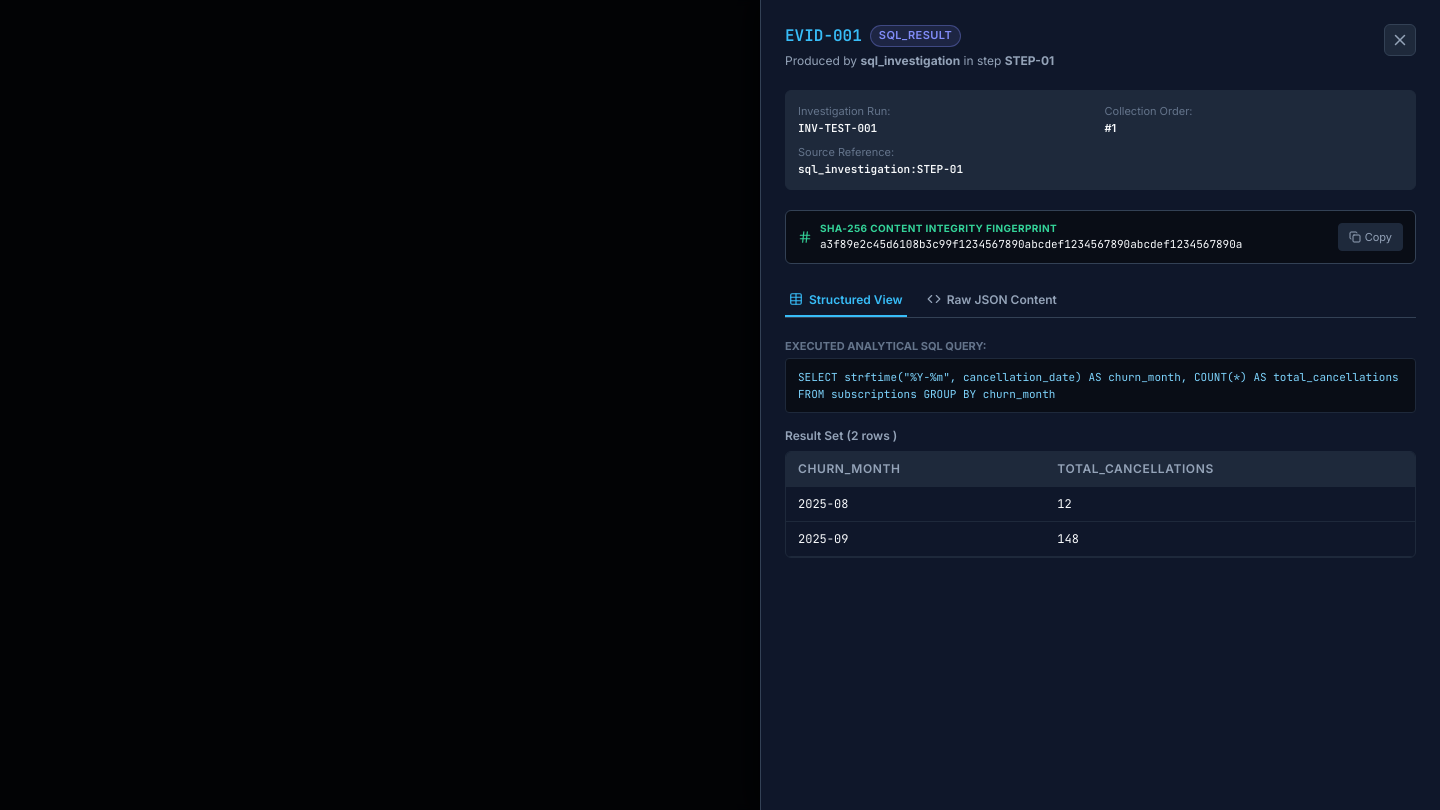
EvidenceInspector component › switches between structured view and raw JSON view
Click the button "Raw JSON Content" at (992, 300), box x1=923 y1=284 x2=1061 y2=316
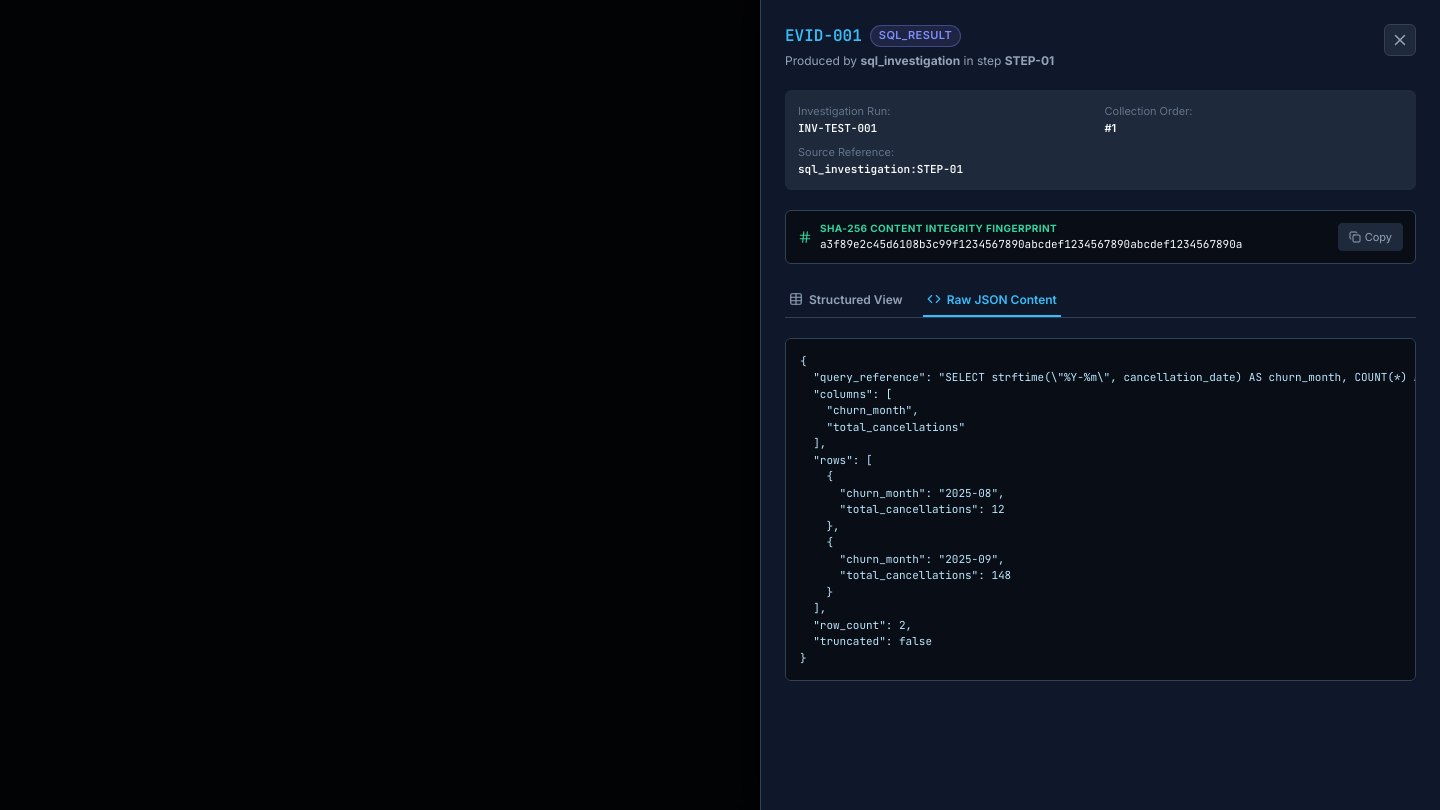
Check: the text "\"query_reference\":" is shown, box x1=800 y1=354 x2=1439 y2=664
